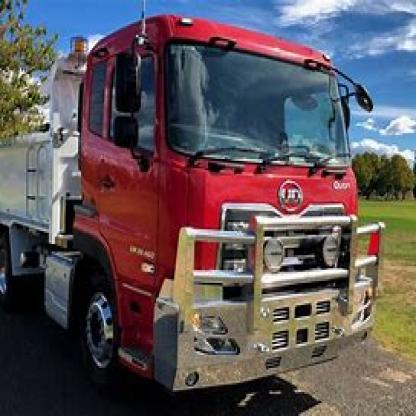dump_truck: (11, 11, 382, 390)
